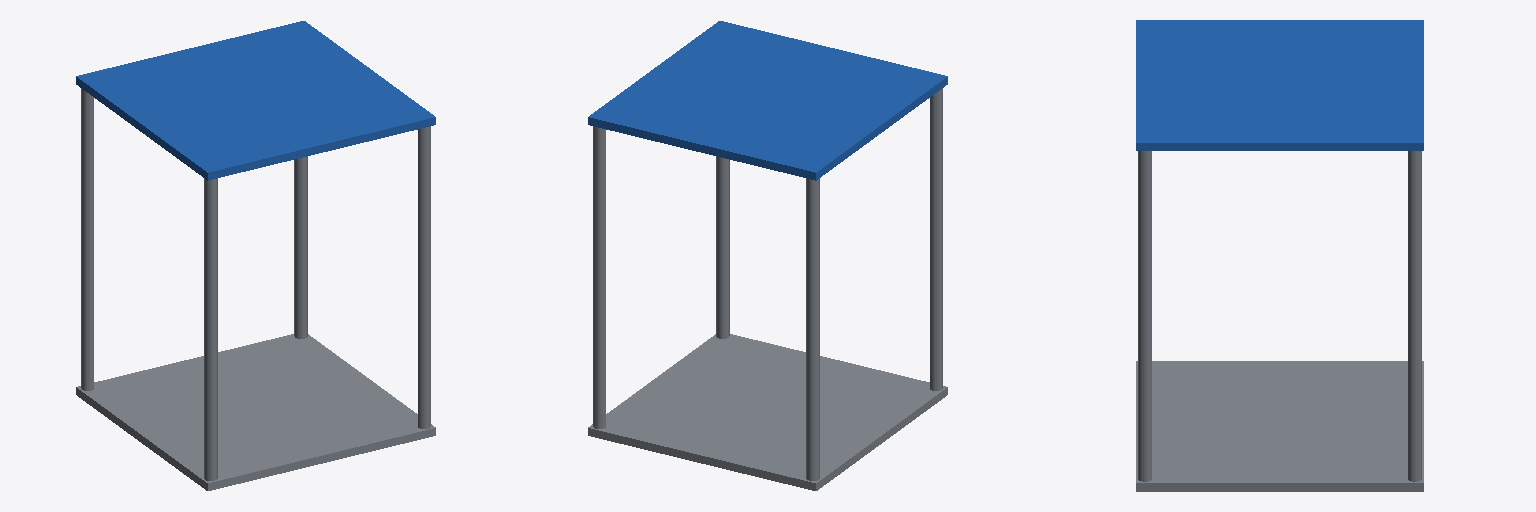
robot.urdf — robot_stand:
<?xml version="1.0"?>
<!--
  robot_stand.urdf
  두산 A0509 장착용 스탠드/캐비닛.
  - 전체 높이 800mm (상단면 z=0.8) → 로봇 베이스를 z=0.8에 올려 장착
  - 하단은 개방 공간(제어기 / 컴프레셔 / 미니PC 수납) — 앞면(-y)은 접근용으로 개방
  - 프리미티브 박스로 구성(메쉬 불필요). 구조물이므로 사용 시 fix_base_link=True 권장

  치수(m): 발자국 0.6(x) x 0.6(y), 높이 0.8
    상판/바닥판 두께 0.02, 기둥 Ø30mm 원기둥(반지름 0.015), 패널 0.015
    내부 수납 높이 = 0.02 ~ 0.78 (약 760mm)
-->
<robot name="robot_stand">

  <material name="frame_gray"> <color rgba="0.55 0.57 0.60 1.0"/> </material>
  <material name="panel_dark"> <color rgba="0.25 0.27 0.30 1.0"/> </material>
  <material name="top_blue">   <color rgba="0.20 0.45 0.75 1.0"/> </material>

  <link name="base_link">

    <!-- 관성 (fix_base_link 사용 시 영향 미미하나 URDF 유효성 위해 기입) -->
    <inertial>
      <origin xyz="0 0 0.4"/>
      <mass value="30.0"/>
      <inertia ixx="1.6" ixy="0" ixz="0" iyy="1.6" iyz="0" izz="1.8"/>
    </inertial>

    <!-- ===== 상판 (로봇 장착면, 윗면 z=0.8) ===== -->
    <visual>
      <origin xyz="0 0 0.79"/>
      <geometry><box size="0.60 0.60 0.02"/></geometry>
      <material name="top_blue"/>
    </visual>
    <collision>
      <origin xyz="0 0 0.79"/>
      <geometry><box size="0.60 0.60 0.02"/></geometry>
    </collision>

    <!-- ===== 바닥판 ===== -->
    <visual>
      <origin xyz="0 0 0.01"/>
      <geometry><box size="0.60 0.60 0.02"/></geometry>
      <material name="frame_gray"/>
    </visual>
    <collision>
      <origin xyz="0 0 0.01"/>
      <geometry><box size="0.60 0.60 0.02"/></geometry>
    </collision>

    <!-- ===== 4 모서리 기둥 (z: 0.02~0.78, 중심 0.40, 길이 0.76) ===== -->
    <visual>
      <origin xyz="0.28 0.28 0.40"/>
      <geometry><cylinder radius="0.015" length="0.76"/></geometry>
      <material name="frame_gray"/>
    </visual>
    <collision>
      <origin xyz="0.28 0.28 0.40"/>
      <geometry><cylinder radius="0.015" length="0.76"/></geometry>
    </collision>

    <visual>
      <origin xyz="-0.28 0.28 0.40"/>
      <geometry><cylinder radius="0.015" length="0.76"/></geometry>
      <material name="frame_gray"/>
    </visual>
    <collision>
      <origin xyz="-0.28 0.28 0.40"/>
      <geometry><cylinder radius="0.015" length="0.76"/></geometry>
    </collision>

    <visual>
      <origin xyz="0.28 -0.28 0.40"/>
      <geometry><cylinder radius="0.015" length="0.76"/></geometry>
      <material name="frame_gray"/>
    </visual>
    <collision>
      <origin xyz="0.28 -0.28 0.40"/>
      <geometry><cylinder radius="0.015" length="0.76"/></geometry>
    </collision>

    <visual>
      <origin xyz="-0.28 -0.28 0.40"/>
      <geometry><cylinder radius="0.015" length="0.76"/></geometry>
      <material name="frame_gray"/>
    </visual>
    <collision>
      <origin xyz="-0.28 -0.28 0.40"/>
      <geometry><cylinder radius="0.015" length="0.76"/></geometry>
    </collision>

    <!-- 패널 없음: 4개 기둥만 있는 개방형 프레임 (사방 트임) -->

  </link>
</robot>

--- Facts derived from the render (not from the file) ---
Views: 3 orthographic renders of the robot side by side, from view 1: azimuth 30°, elevation 25°; view 2: azimuth 150°, elevation 25°; view 3: azimuth 270°, elevation 25°.
Robot: robot_stand — 1 links, 0 joints (none); root link base_link; default pose: every joint at zero.
Links seen in each view (by area): view 1: base_link; view 2: base_link; view 3: base_link.
Link boxes in pixels (x1,y1,x2,y2): base_link: (76,21,435,490); base_link: (588,21,947,490); base_link: (1136,20,1423,491).
Bounding box of the posed robot: 0.6 × 0.6 × 0.8 m (x, y, z).
Geometry: primitives only (box / cylinder / sphere), no mesh files.
